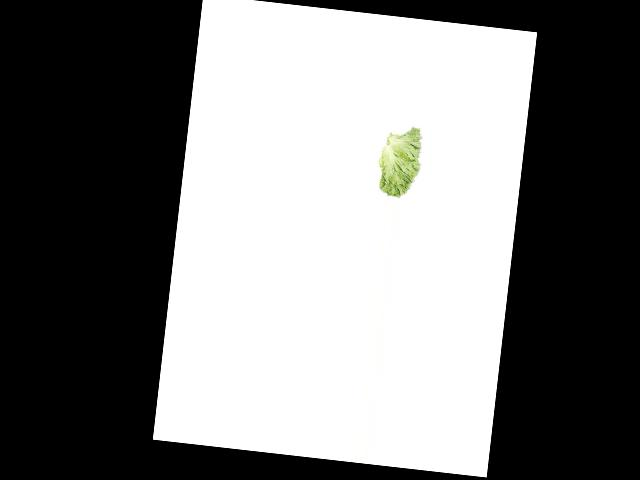lettuce: (372, 123, 430, 201)
